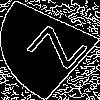Z: (25, 25, 100, 76)
